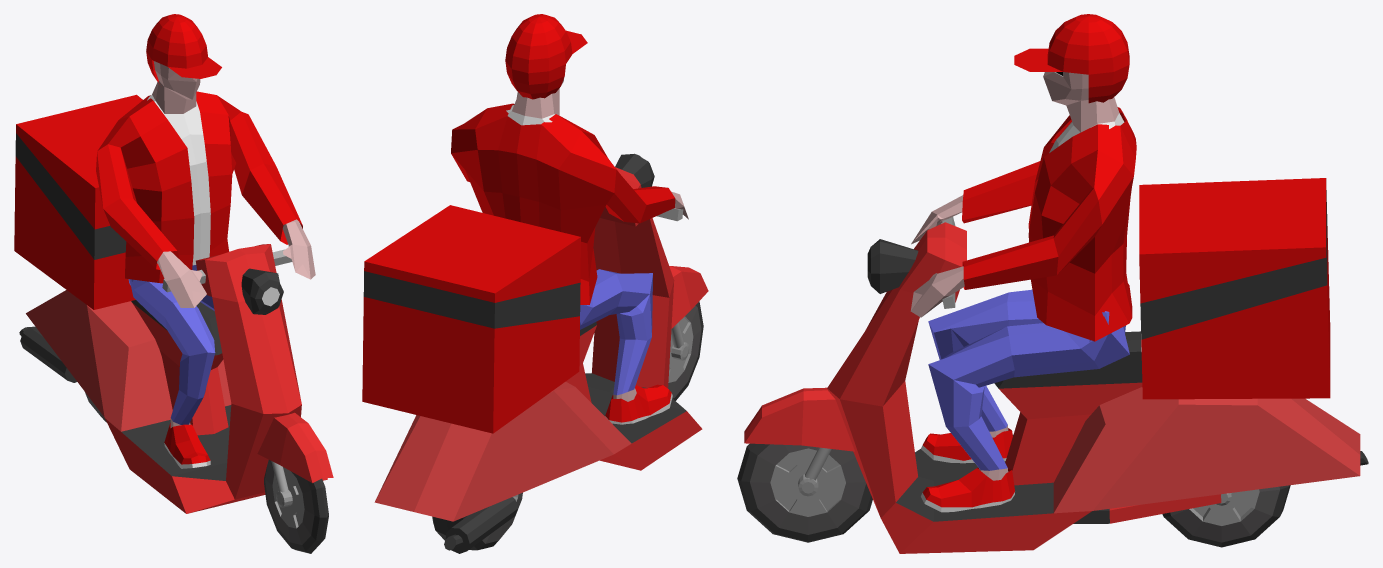
Rendered from Char_Main_Block.fbx.
3 renders of one model, left to right at view 1: azimuth 30°, elevation 25°; view 2: azimuth 150°, elevation 25°; view 3: azimuth 270°, elevation 25°, orthographic. The views are drawn at different scales.
Parts seen in each view (by area): view 1: moped_frame, jacket, deliverybox, Character_main_Male, Front_tie, mud_geard, helemt, Light, shoes, exhaust, helmet_front; view 2: deliverybox, moped_frame, jacket, Character_main_Male, helemt, Front_tie, exhaust, shoes, mud_geard, Backtire, Light; view 3: moped_frame, deliverybox, jacket, Character_main_Male, Front_tie, helemt, mud_geard, Backtire, shoes, Light, helmet_front.
Boxes of the visible parts, bbox=[...] form: moped_frame: bbox=[26, 244, 327, 513]; jacket: bbox=[96, 91, 302, 283]; deliverybox: bbox=[14, 94, 142, 309]; Character_main_Male: bbox=[128, 61, 315, 427]; Front_tie: bbox=[264, 460, 328, 553]; mud_geard: bbox=[257, 412, 333, 482]; helemt: bbox=[146, 14, 207, 84]; Light: bbox=[241, 268, 283, 314]; shoes: bbox=[164, 422, 210, 468]; exhaust: bbox=[19, 326, 76, 382]; helmet_front: bbox=[168, 57, 221, 78]; deliverybox: bbox=[362, 205, 580, 433]; moped_frame: bbox=[374, 167, 702, 521]; jacket: bbox=[451, 103, 675, 304]; Character_main_Male: bbox=[506, 79, 688, 401]; helemt: bbox=[505, 14, 572, 99]; Front_tie: bbox=[668, 301, 703, 400]; exhaust: bbox=[444, 497, 517, 553]; shoes: bbox=[605, 384, 672, 424]; mud_geard: bbox=[669, 266, 708, 328]; Backtire: bbox=[432, 492, 522, 550]; Light: bbox=[615, 153, 654, 187]; moped_frame: bbox=[827, 217, 1360, 553]; deliverybox: bbox=[1139, 178, 1330, 399]; jacket: bbox=[962, 107, 1136, 341]; Character_main_Male: bbox=[910, 72, 1129, 480]; Front_tie: bbox=[737, 443, 872, 542]; helemt: bbox=[1047, 14, 1129, 103]; mud_geard: bbox=[744, 387, 854, 451]; Backtire: bbox=[1162, 485, 1290, 547]; shoes: bbox=[921, 428, 1014, 512]; Light: bbox=[867, 239, 918, 293]; helmet_front: bbox=[1014, 48, 1062, 71].
Size of the model in its own units: 64.38 by 159 by 172.
